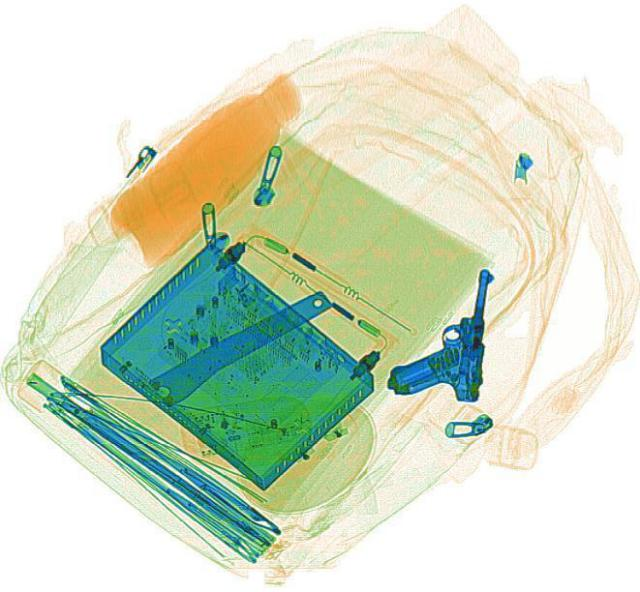Gun: (384, 259, 492, 403)
